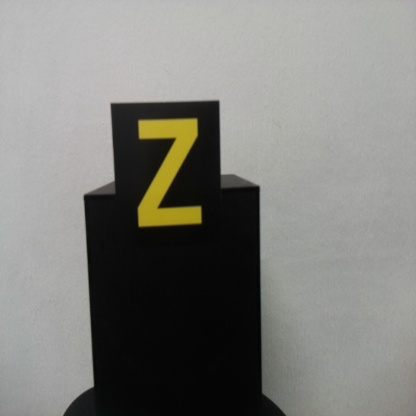id_15: (109, 104, 223, 240)
